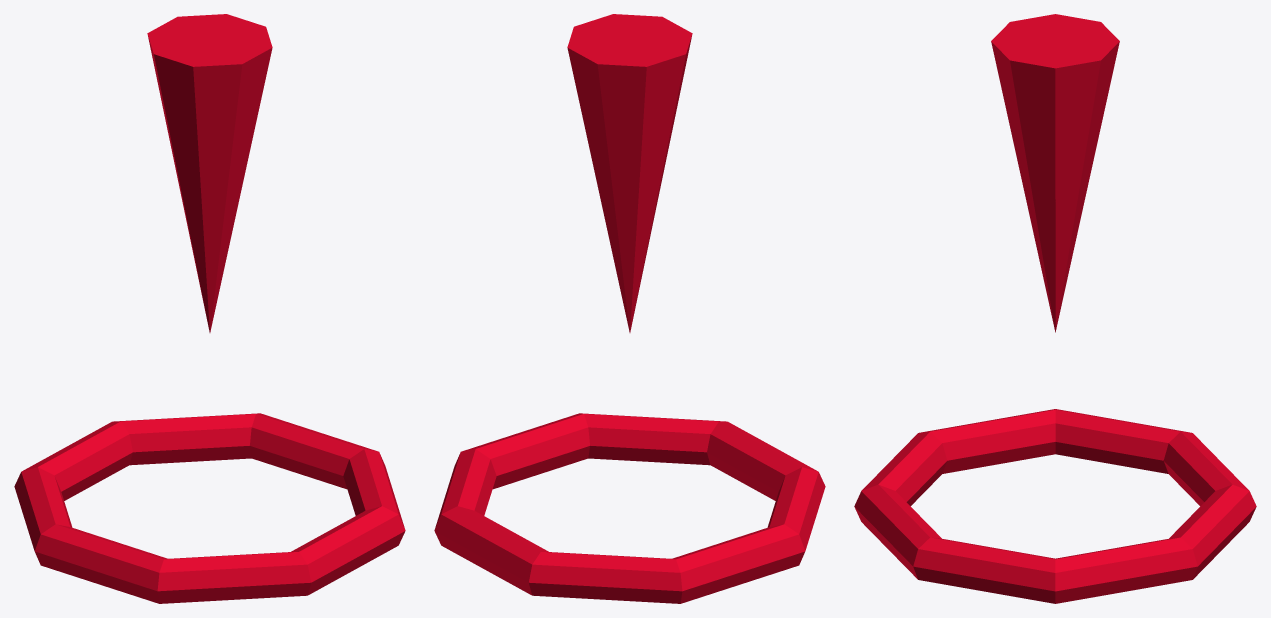
The model's file is marker.glb.
3 views of the same model, side by side, from view 1: azimuth 30°, elevation 25°; view 2: azimuth 150°, elevation 25°; view 3: azimuth 270°, elevation 25° (orthographic).
Visible parts, largest first — view 1: Torus, Cone; view 2: Torus, Cone; view 3: Torus, Cone.
Part boxes in pixels (<box>): Torus: <box>14,413,405,603</box>; Cone: <box>147,14,272,332</box>; Torus: <box>434,413,825,603</box>; Cone: <box>567,14,692,332</box>; Torus: <box>854,409,1256,603</box>; Cone: <box>991,14,1119,332</box>.
Bounding box in the file's own units: 1 × 1.34 × 1.
